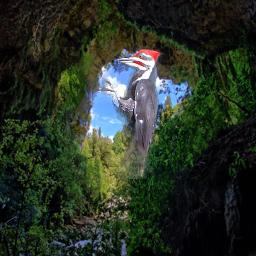Woodpecker: (96, 49, 163, 179)
